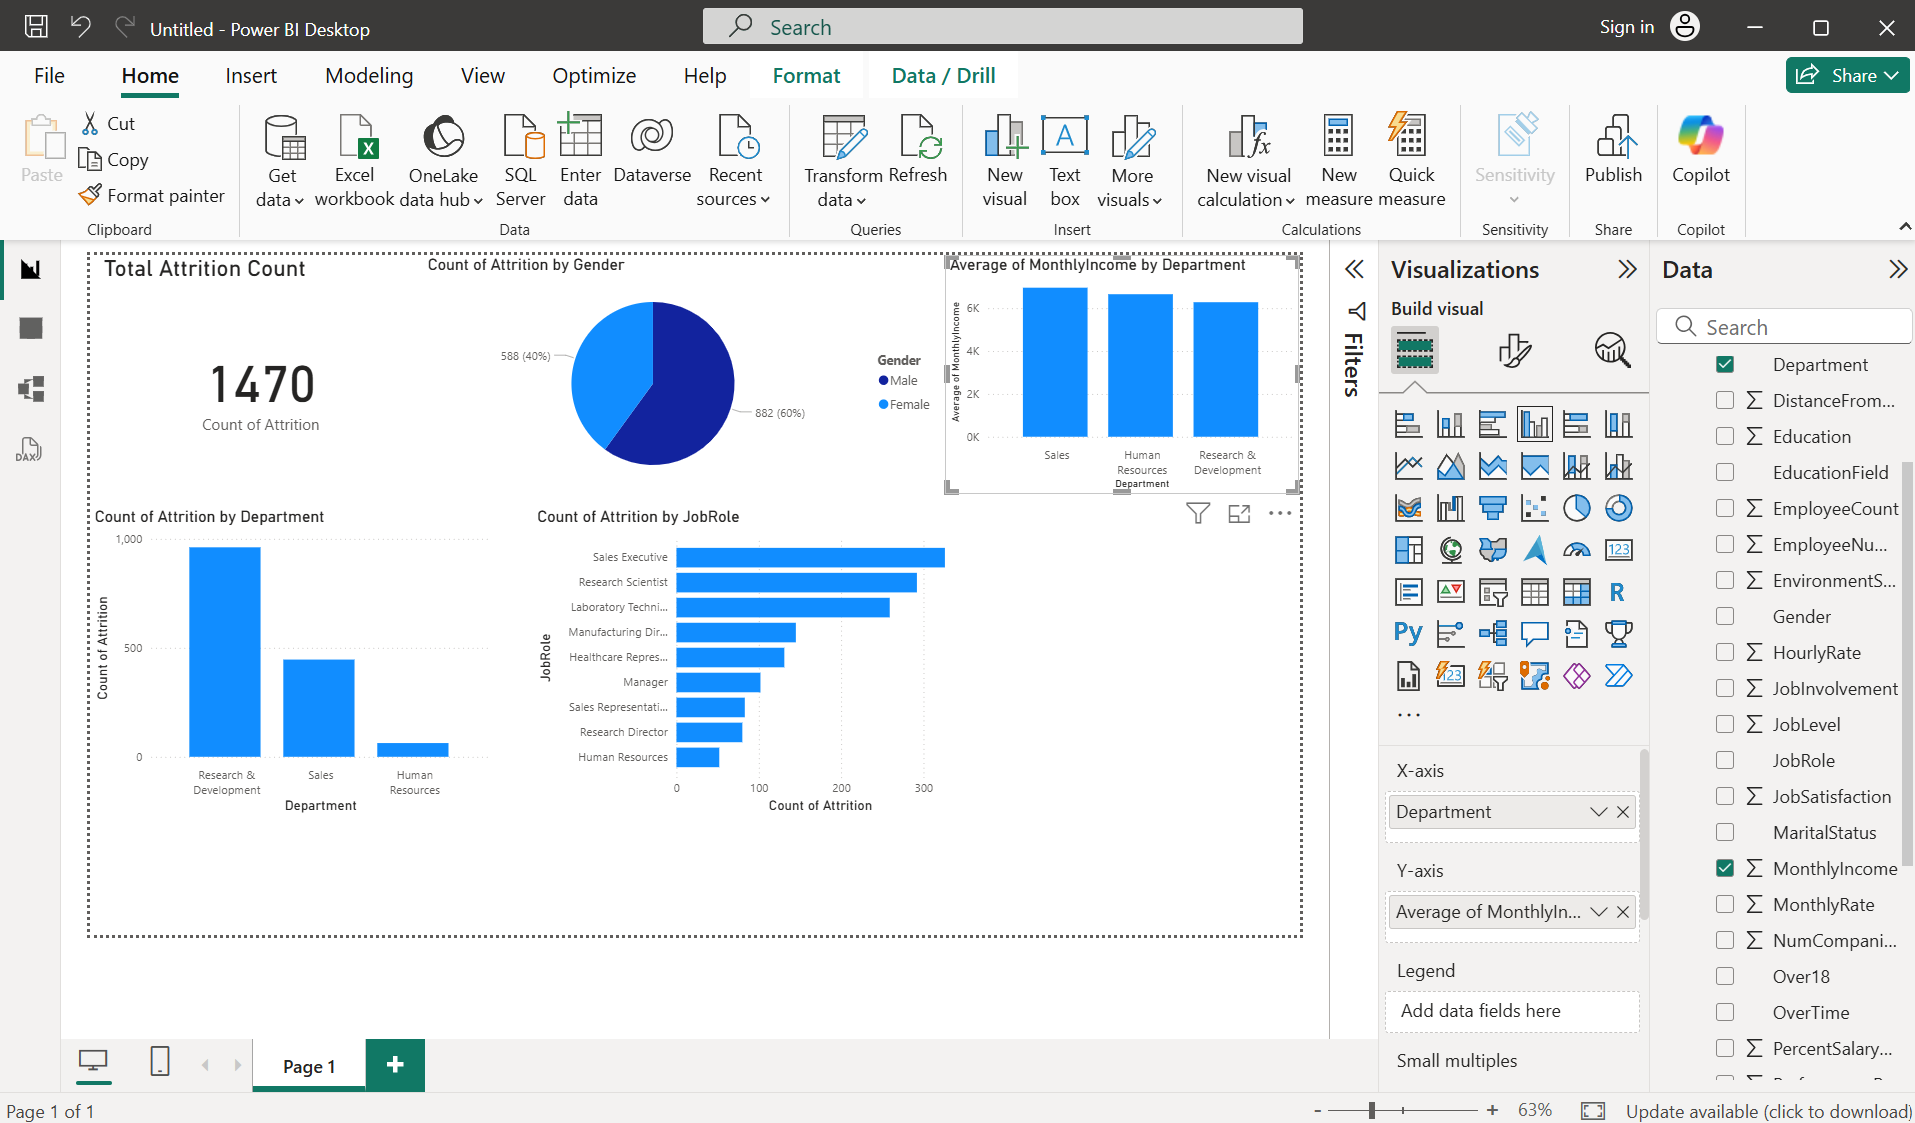

This screenshot's page, from the dashboard's own definition file:
{"tool":"powerbi","page":{"name":"Page 1","canvas":[1280,720],"ordinal":0},"visuals":[{"type":"card","title":"Total Attrition Count","fields":{"Values":["CountNonNull(HR_Employee_Attrition csv.Attrition)"]},"box":[10,0,342,252],"z":0},{"type":"clusteredColumnChart","fields":{"Category":["HR_Employee_Attrition csv.Department"],"Y":["CountNonNull(HR_Employee_Attrition csv.Attrition)"]},"box":[0,266,428,328],"z":1},{"type":"pieChart","fields":{"Category":["HR_Employee_Attrition csv.Gender"],"Y":["CountNonNull(HR_Employee_Attrition csv.Attrition)"]},"box":[352,0,552,252],"z":2},{"type":"clusteredBarChart","fields":{"Category":["HR_Employee_Attrition csv.JobRole"],"Y":["CountNonNull(HR_Employee_Attrition csv.Attrition)"]},"box":[468,266,472,328],"z":3},{"type":"clusteredColumnChart","fields":{"Category":["HR_Employee_Attrition csv.Department"],"Y":["Avg(HR_Employee_Attrition csv.MonthlyIncome)"]},"box":[904,0,376,252],"z":4}]}

Visuals, with their boxes on the page's 1280x720 design canvas (x1, y1, x2, y2). These are canvas units, not pixel positions in the 1915x1123 screenshot, which may show the page scaled, cropped or inside an application window:
"Total Attrition Count" card: bbox(10, 0, 352, 252)
clusteredColumnChart - HR_Employee_Attrition csv.Department x CountNonNull(HR_Employee_Attrition csv.Attrition): bbox(0, 266, 428, 594)
pieChart - HR_Employee_Attrition csv.Gender x CountNonNull(HR_Employee_Attrition csv.Attrition): bbox(352, 0, 904, 252)
clusteredBarChart - HR_Employee_Attrition csv.JobRole x CountNonNull(HR_Employee_Attrition csv.Attrition): bbox(468, 266, 940, 594)
clusteredColumnChart - HR_Employee_Attrition csv.Department x Avg(HR_Employee_Attrition csv.MonthlyIncome): bbox(904, 0, 1280, 252)
